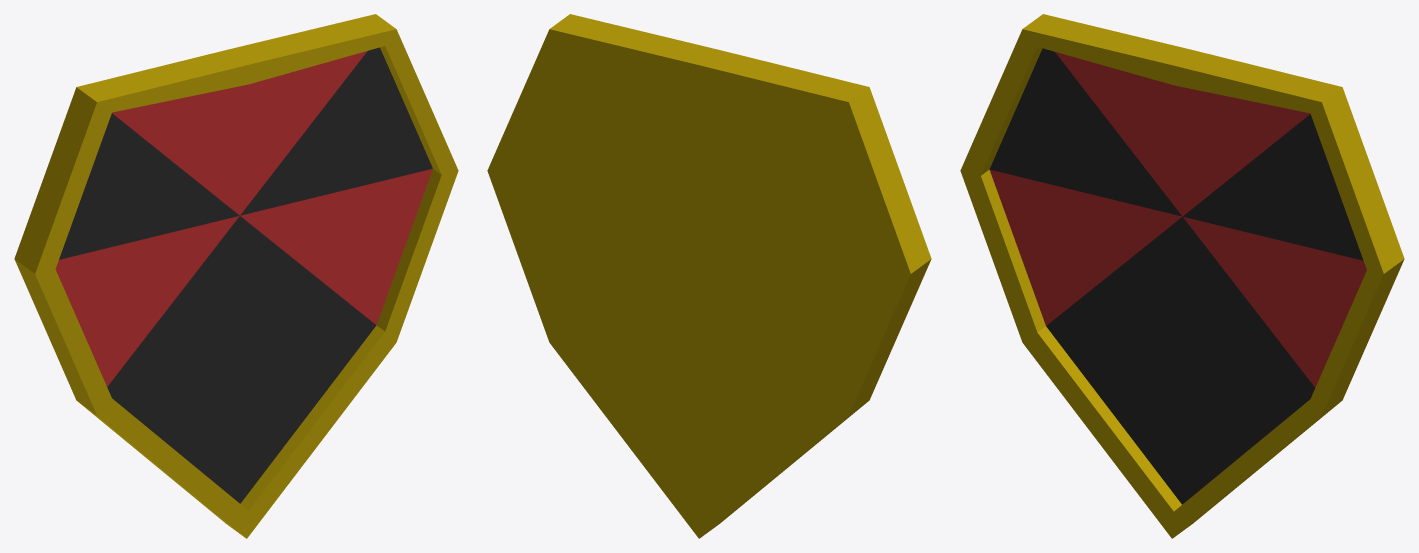
File: ItemEscudo_2.fbx
The picture shows the model from 3 angles, left to right: view 1: azimuth 30°, elevation 25°; view 2: azimuth 150°, elevation 25°; view 3: azimuth 330°, elevation 25°; orthographic projection.
Parts seen in each view (by area): view 1: EscudoB; view 2: EscudoB; view 3: EscudoB.
Part boxes in pixels (x1=…): EscudoB: x1=14, y1=14, x2=458, y2=538; EscudoB: x1=487, y1=14, x2=931, y2=538; EscudoB: x1=960, y1=14, x2=1404, y2=538.
Bounding box in the file's own units: 70 × 74.83 × 5.93.
